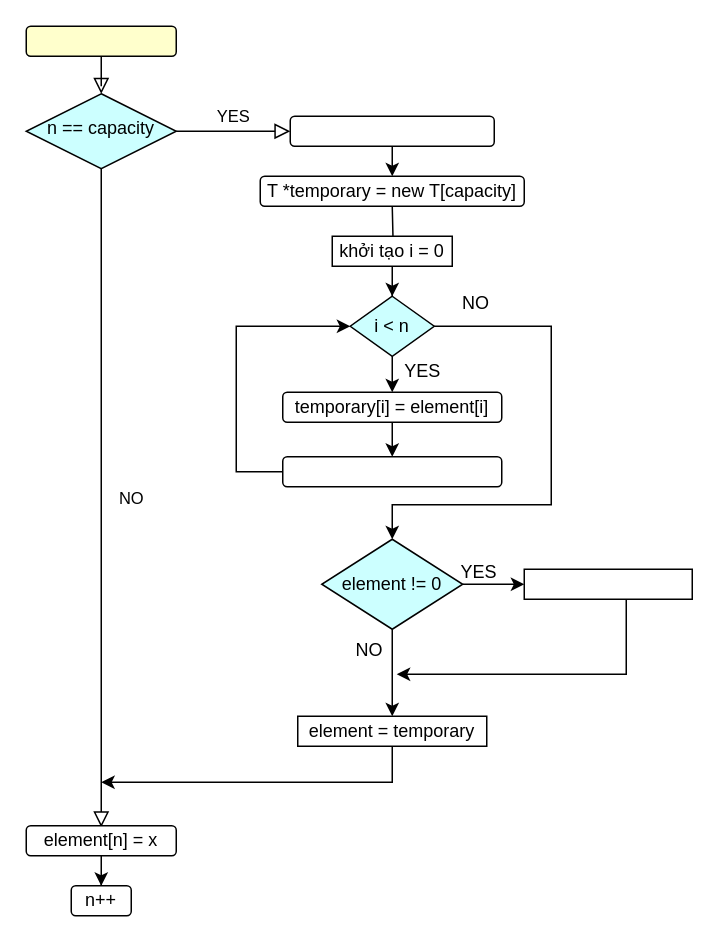
The diagram is 719 pixels wide and 942 high, and some of its shapes have lost their labels. Each missing label, with the box of its shape:
capacity = capacity*2 +1: (289, 115, 494, 146)
delete []element: (523, 568, 692, 599)
i++: (281, 455, 502, 487)
void push(T x): (25, 25, 176, 56)
